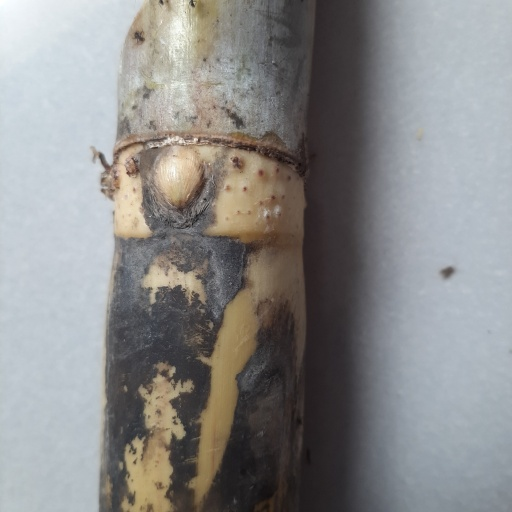Bud: (149, 145, 207, 211)
